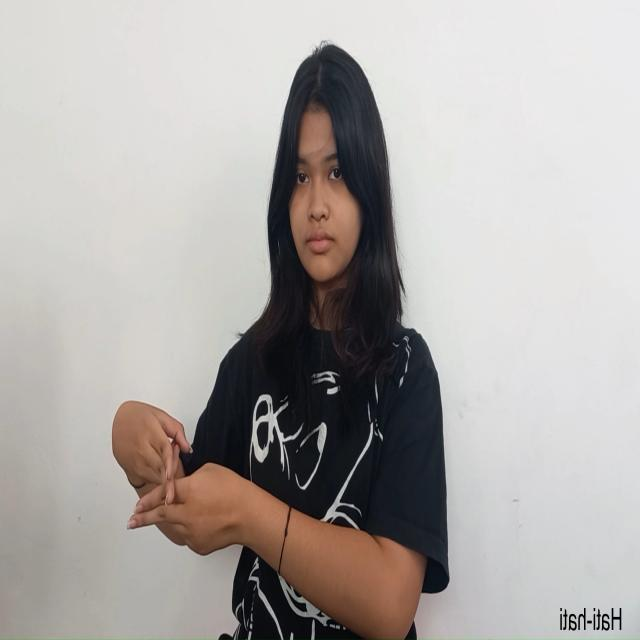Hati-hati -BISINDO-: (112, 400, 250, 557)
